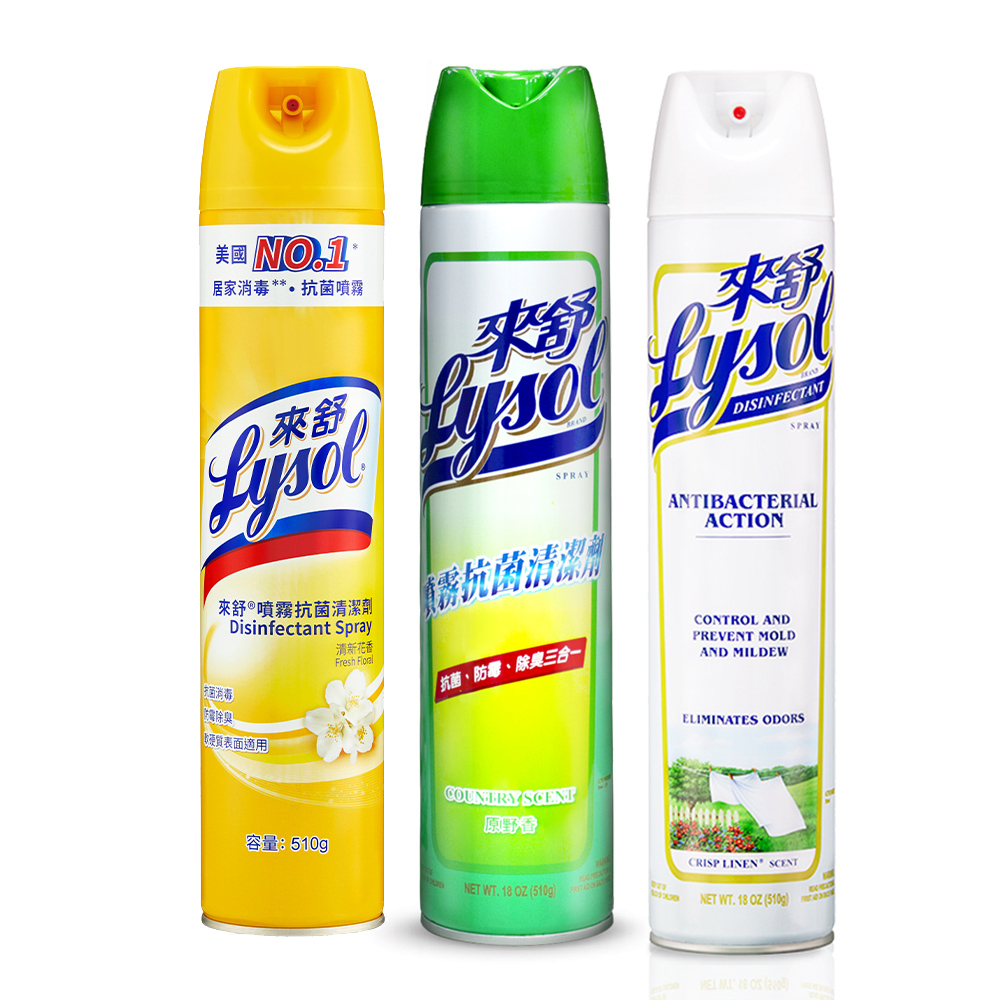cleaner: (617, 66, 850, 959), (179, 57, 401, 943), (415, 62, 623, 953)
